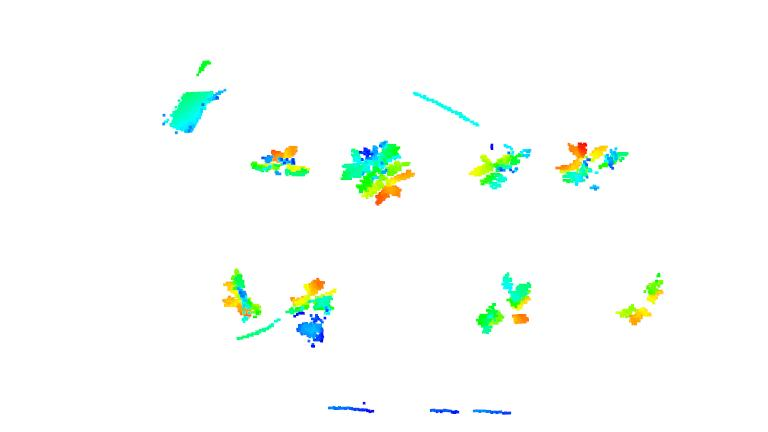chickpea: (339, 140, 418, 204), (477, 270, 535, 337), (551, 142, 631, 186), (288, 277, 339, 343), (469, 142, 535, 190), (621, 274, 667, 326), (221, 268, 263, 323), (252, 142, 312, 178)
